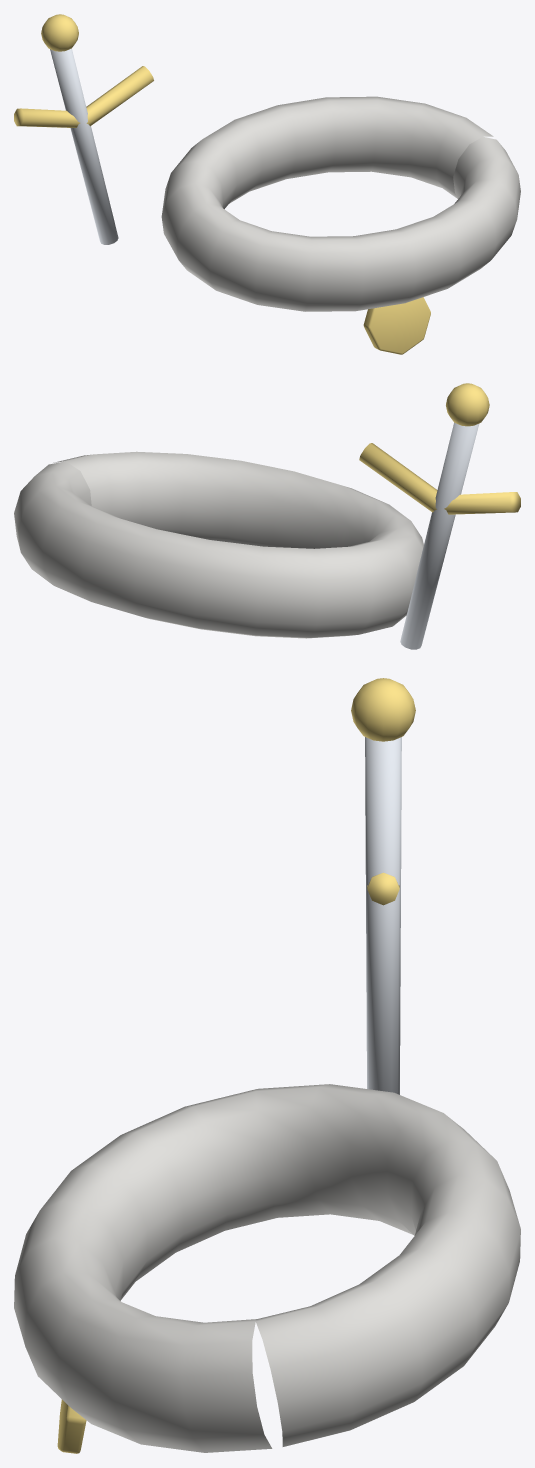
File: boss_charles_iv_torso.glb
3 views of the same model, one above another, from view 1: azimuth 30°, elevation 25°; view 2: azimuth 150°, elevation 25°; view 3: azimuth 270°, elevation 25° (orthographic). The views are drawn at different scales.
Visible parts, largest first — view 1: CharlesErmineCollar, GreatSwordHilt, CharlesChainMedallion, GreatSwordCross, GreatSwordPommel; view 2: CharlesErmineCollar, GreatSwordHilt, GreatSwordCross, GreatSwordPommel; view 3: CharlesErmineCollar, GreatSwordHilt, GreatSwordPommel, CharlesChainMedallion.
Part boxes in pixels (bbox=[...]): CharlesErmineCollar: bbox=[161, 96, 520, 311]; GreatSwordHilt: bbox=[50, 48, 118, 244]; CharlesChainMedallion: bbox=[363, 297, 430, 354]; GreatSwordCross: bbox=[14, 66, 153, 127]; GreatSwordPommel: bbox=[41, 14, 78, 51]; CharlesErmineCollar: bbox=[14, 451, 423, 638]; GreatSwordHilt: bbox=[400, 422, 479, 649]; GreatSwordCross: bbox=[359, 443, 520, 514]; GreatSwordPommel: bbox=[446, 383, 489, 426]; CharlesErmineCollar: bbox=[14, 1084, 520, 1452]; GreatSwordHilt: bbox=[365, 737, 401, 1094]; GreatSwordPommel: bbox=[351, 678, 415, 741]; CharlesChainMedallion: bbox=[57, 1399, 86, 1453].
Size of the model in its own units: 0.7719 by 0.5366 by 0.4371.
